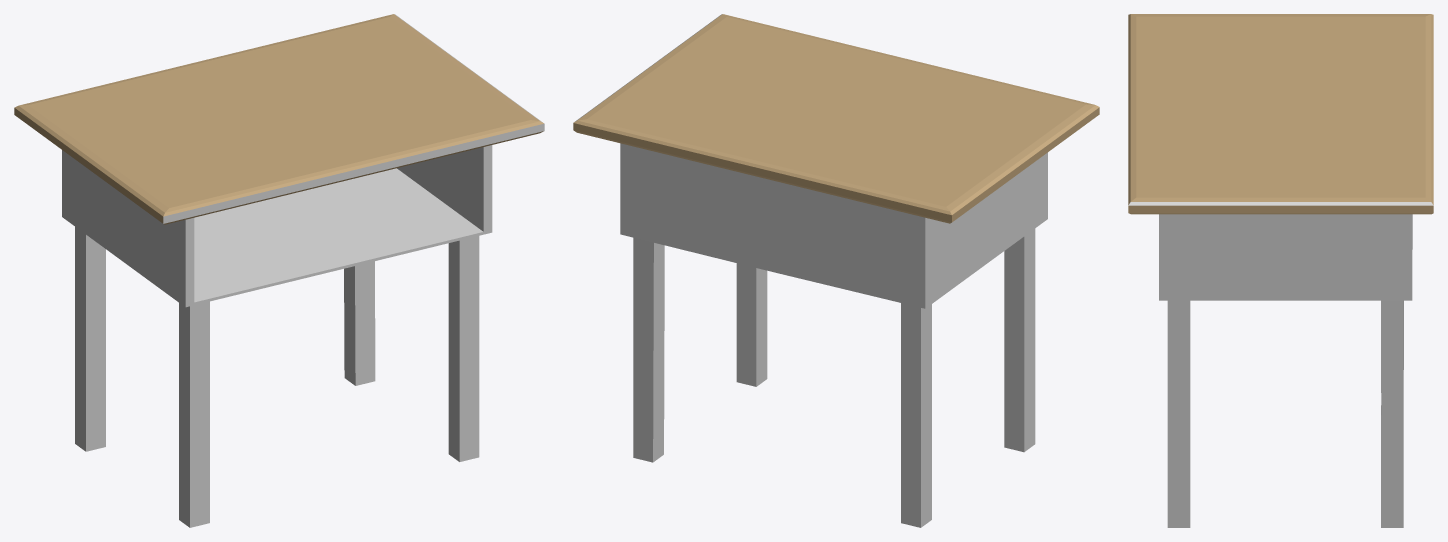
3 views of the same model, side by side, from view 1: azimuth 30°, elevation 25°; view 2: azimuth 150°, elevation 25°; view 3: azimuth 270°, elevation 25° (orthographic). The views are drawn at different scales.
Parts seen in each view (by area): view 1: 单人桌; view 2: 单人桌; view 3: 单人桌.
Boxes of the visible parts, x1,y1,x2,y2 form: 单人桌: (14,14,544,527); 单人桌: (573,14,1099,527); 单人桌: (1128,14,1433,527).
Bounding box in the file's own units: 356 × 304 × 241.
